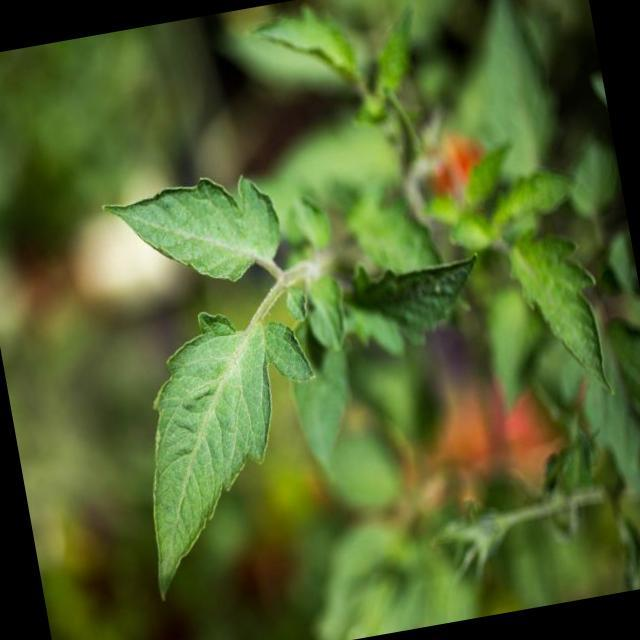Healthy Leaf: (88, 302, 325, 626), (74, 150, 308, 306), (479, 202, 636, 426)
